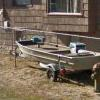Boat: (9, 26, 100, 78)
